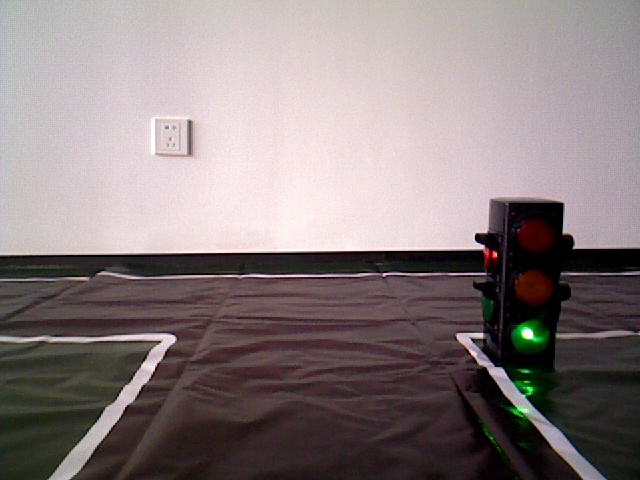green: (492, 201, 559, 359)
